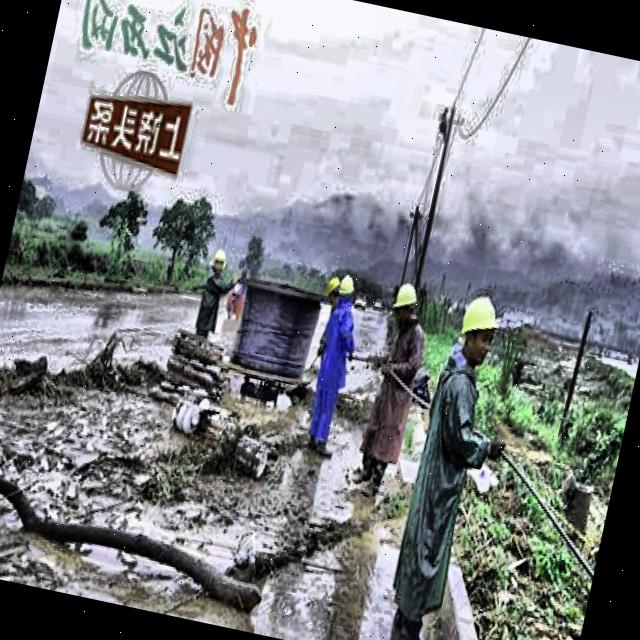helmet: (452, 288, 508, 370), (387, 274, 424, 332), (334, 271, 364, 311), (204, 245, 232, 282), (319, 274, 345, 311)
